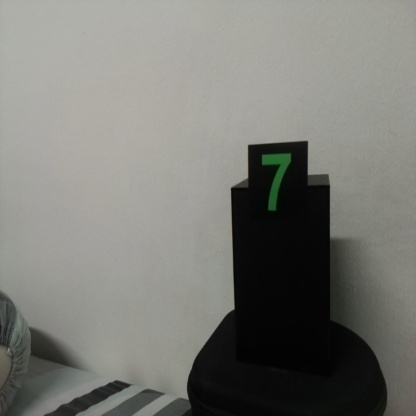id_7: (248, 145, 309, 234)
